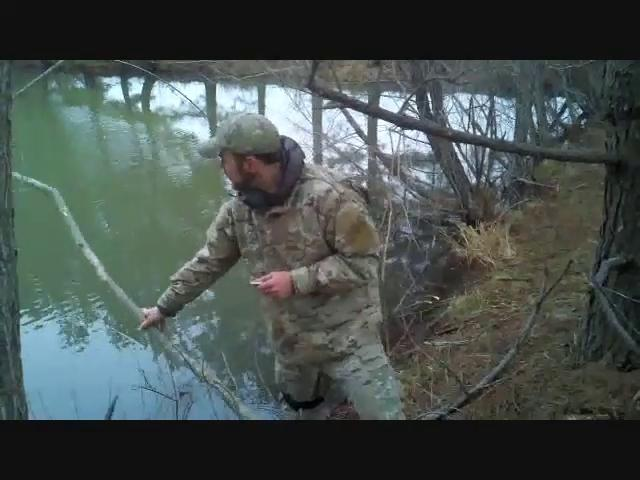victim: (137, 108, 411, 419)
